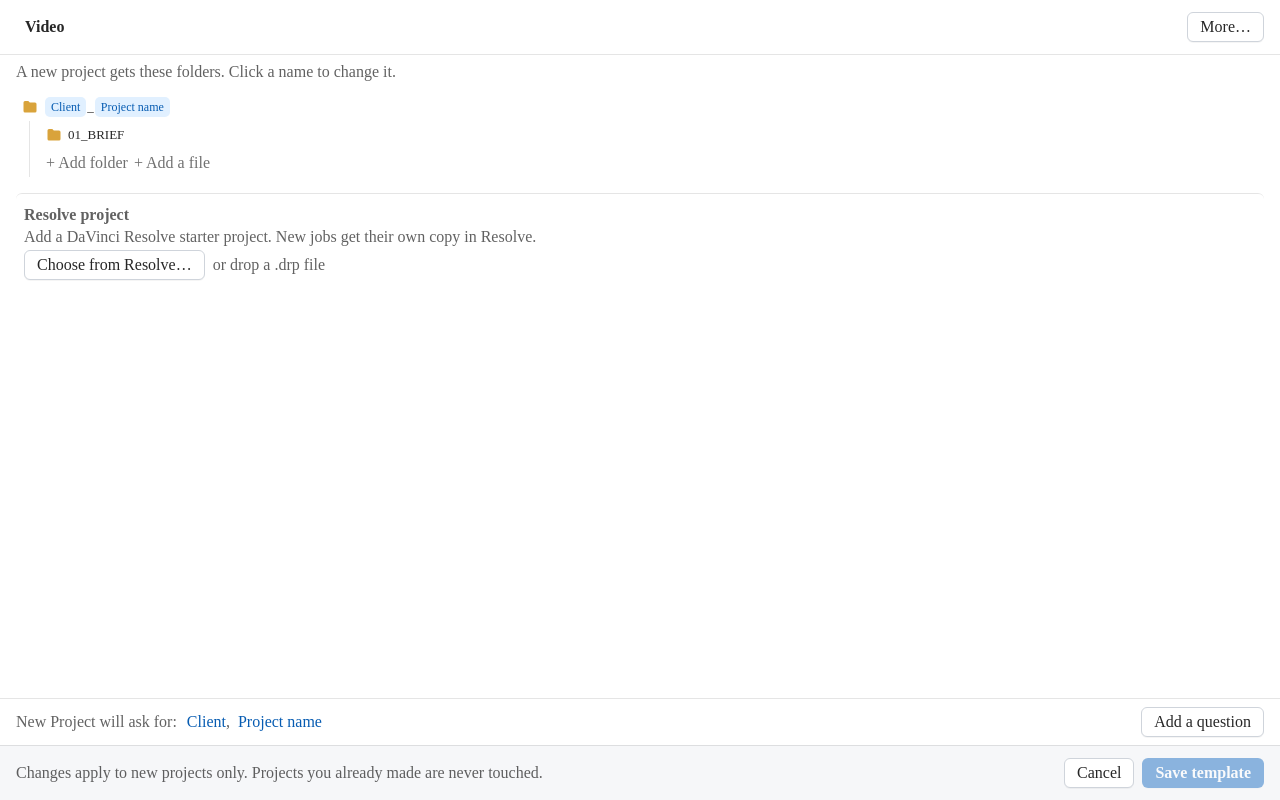
Resolve project in the template editor › says what to do when Resolve is notInstalled
The image size is (1280, 800).
Click the button "Choose from Resolve…" at {"x": 114, "y": 265}, box [24, 250, 205, 280]
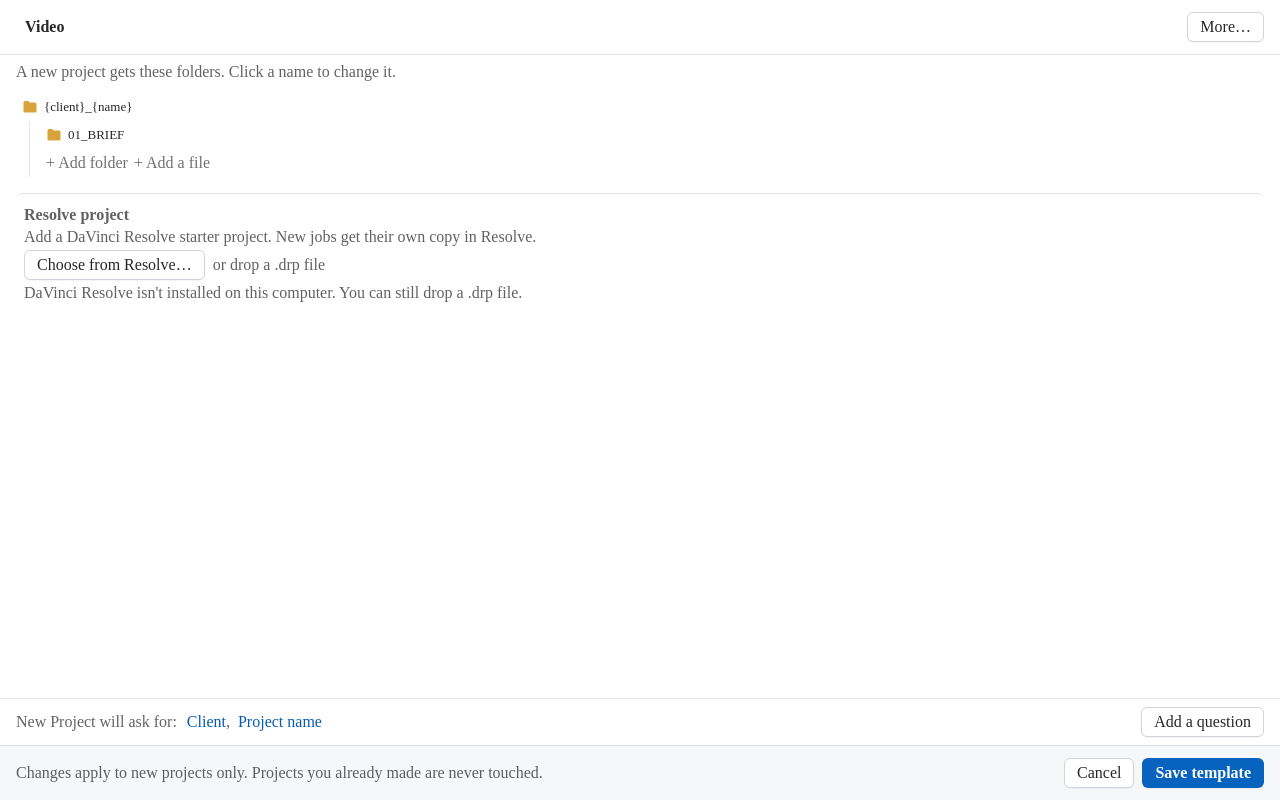
Expected: the text "DaVinci Resolve isn't installed on this computer. You can still drop a .drp file." is shown, [24, 284, 522, 301]
